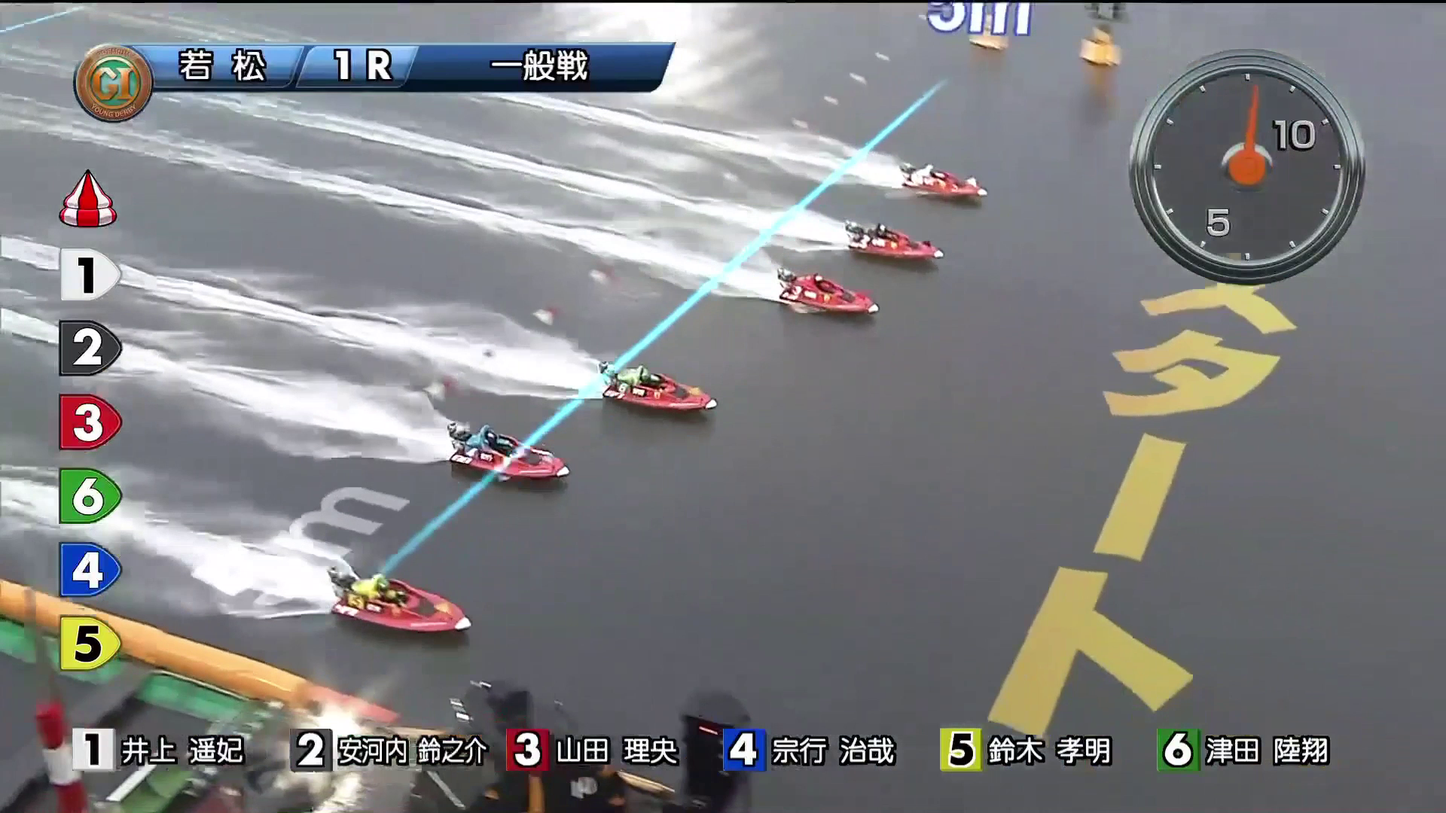１号艇: (858, 177, 934, 223)
２号艇: (863, 236, 924, 274)
３号艇: (799, 281, 854, 322)
４号艇: (635, 373, 700, 416)
５号艇: (499, 455, 568, 493)
６号艇: (423, 607, 488, 653)
